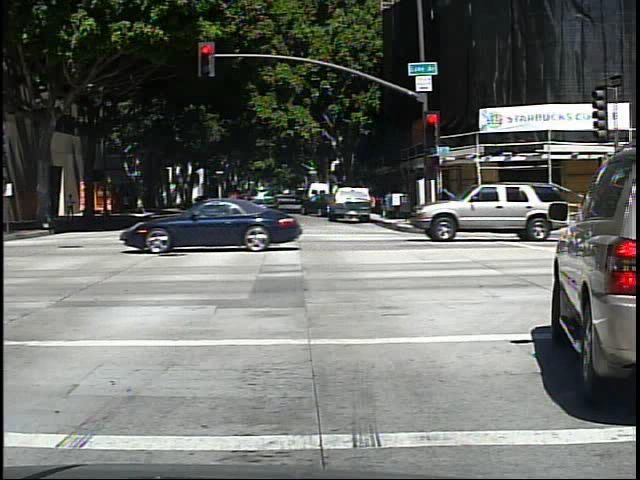person: (64, 190, 79, 222)
